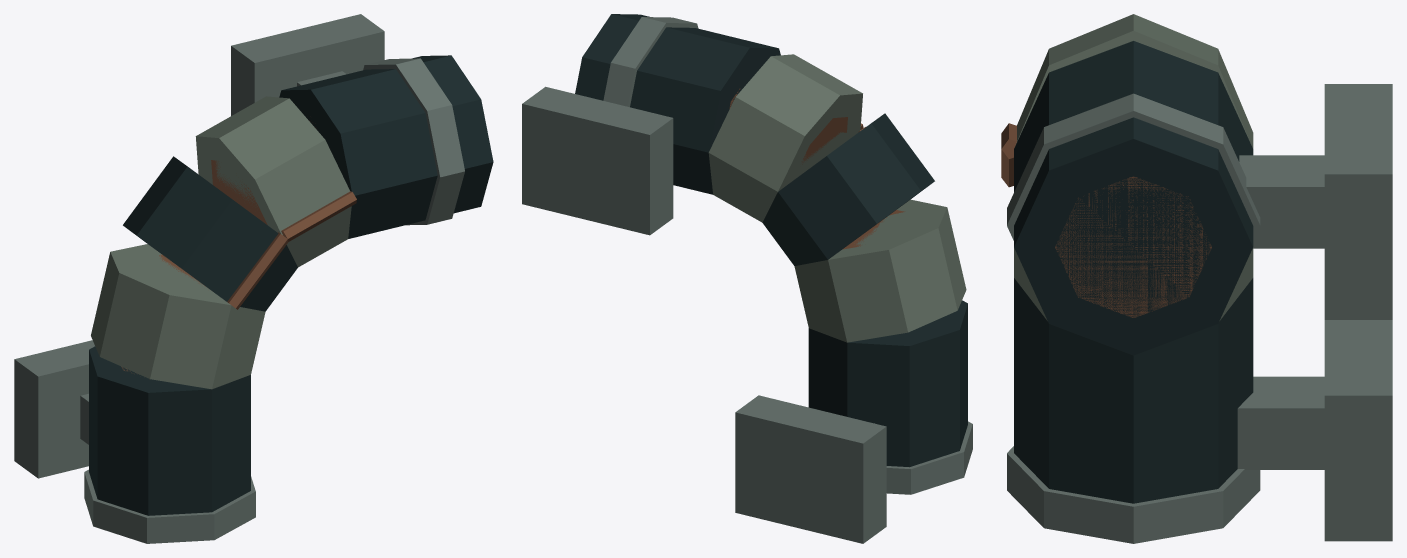
The model's file is split-insulation-elbow.glb.
3 renders of one model, left to right at view 1: azimuth 30°, elevation 25°; view 2: azimuth 150°, elevation 25°; view 3: azimuth 270°, elevation 25°, orthographic. The views are drawn at different scales.
Visible parts, largest first — view 1: split-insulation-elbow; view 2: split-insulation-elbow; view 3: split-insulation-elbow.
Boxes of the visible parts, <box> form: split-insulation-elbow: <box>14,14,493,543</box>; split-insulation-elbow: <box>522,14,972,543</box>; split-insulation-elbow: <box>1001,14,1392,543</box>.
Size of the model in its own units: 0.331 by 0.346 by 0.219.
